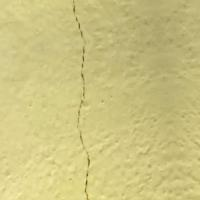crack: (54, 0, 121, 199)
